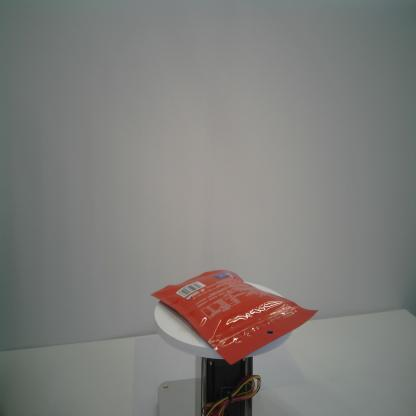Dried Fruit: (149, 266, 320, 369)
